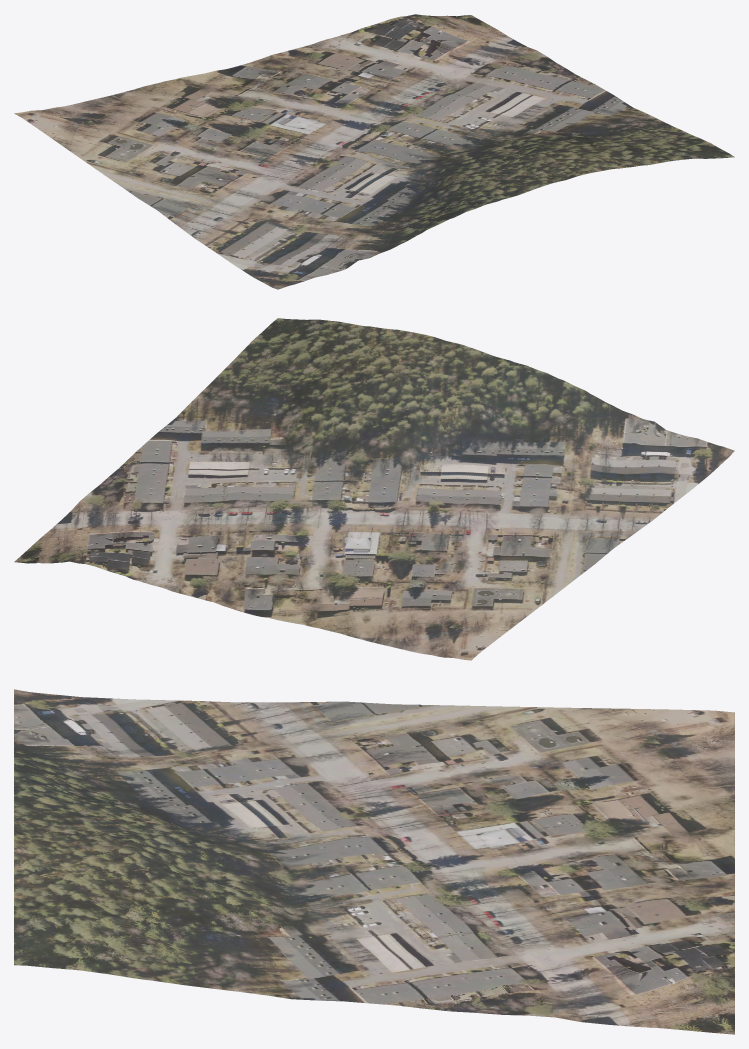
File: CM_Terrain_24491892_6817336.fbx
3 views of the same model, one above another, from view 1: azimuth 30°, elevation 25°; view 2: azimuth 150°, elevation 25°; view 3: azimuth 270°, elevation 25° (orthographic). The views are drawn at different scales.
Parts seen in each view (by area): view 1: CM_Terrain_24491892_6817336_LOD0; view 2: CM_Terrain_24491892_6817336_LOD0; view 3: CM_Terrain_24491892_6817336_LOD0.
Boxes of the visible parts, left/top/right/bottom form: CM_Terrain_24491892_6817336_LOD0: left=14, top=14, right=734, bottom=289; CM_Terrain_24491892_6817336_LOD0: left=14, top=318, right=734, bottom=660; CM_Terrain_24491892_6817336_LOD0: left=14, top=689, right=734, bottom=1034.
Size of what is drawn, in the model's own units: 205 by 30.07 by 205.
